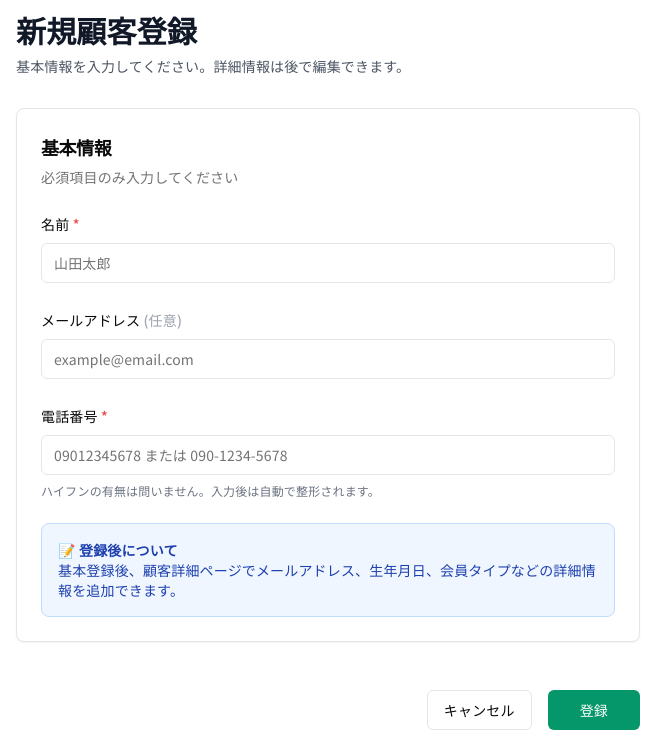
NewCustomerContent › shows the server error inline instead of acting like registration succeeded
The width and height of the screenshot is (657, 747).
Step 1. Type "予約 太郎" into the field labelled "名前 *" → coordinates (328, 263), box [41,243,615,283]
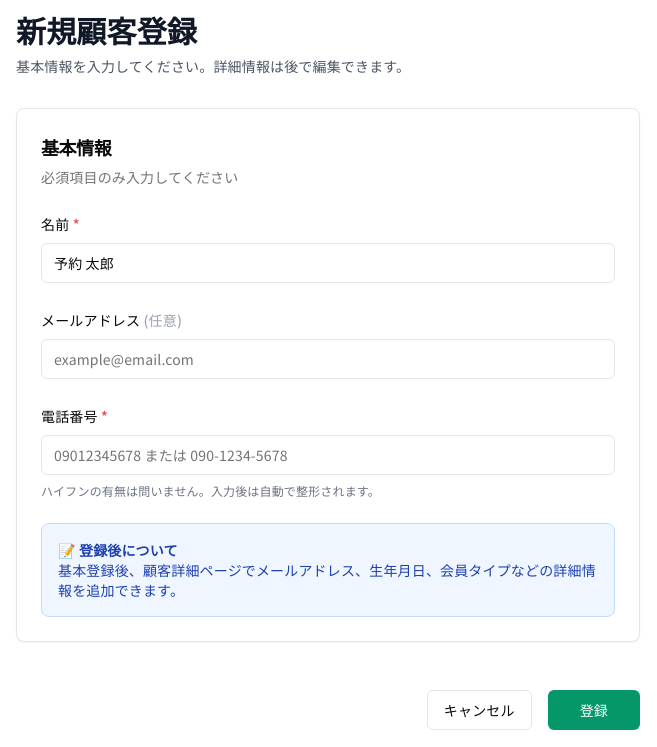
Step 2. Type "090-1234-5678" into the field labelled "電話番号 *" → coordinates (328, 455), box [41,435,615,475]
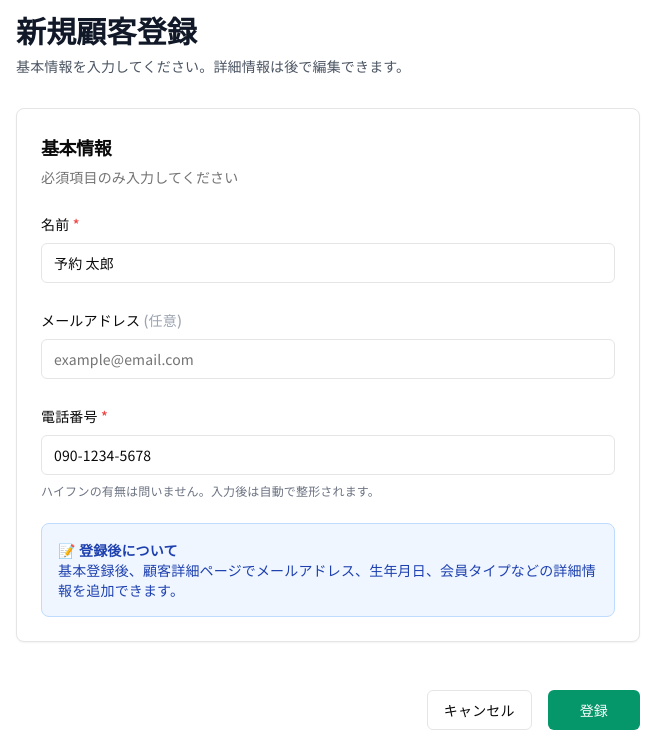
Step 3. Click the button "登録" → coordinates (594, 710), box [548,690,640,730]
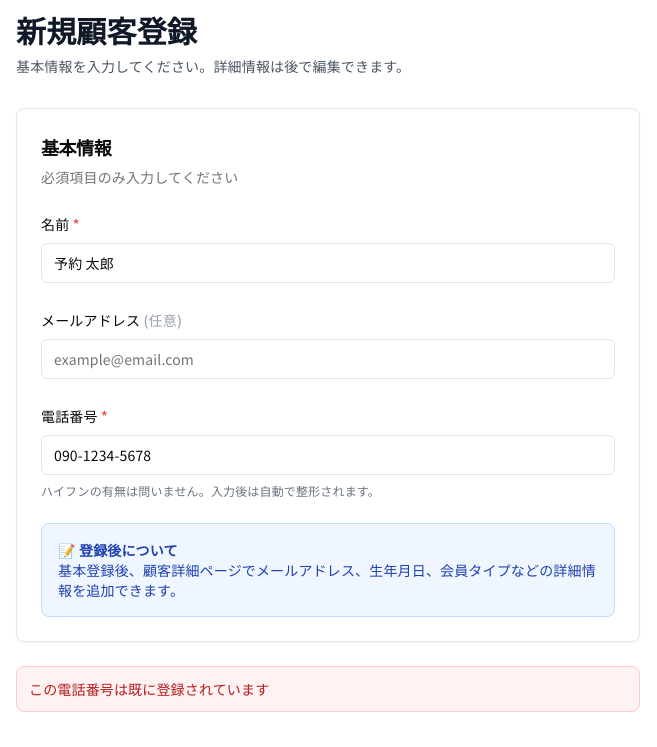
Result: the message named "顧客登録エラー" reads "この電話番号は既に登録されています" at [29,679,269,699]
